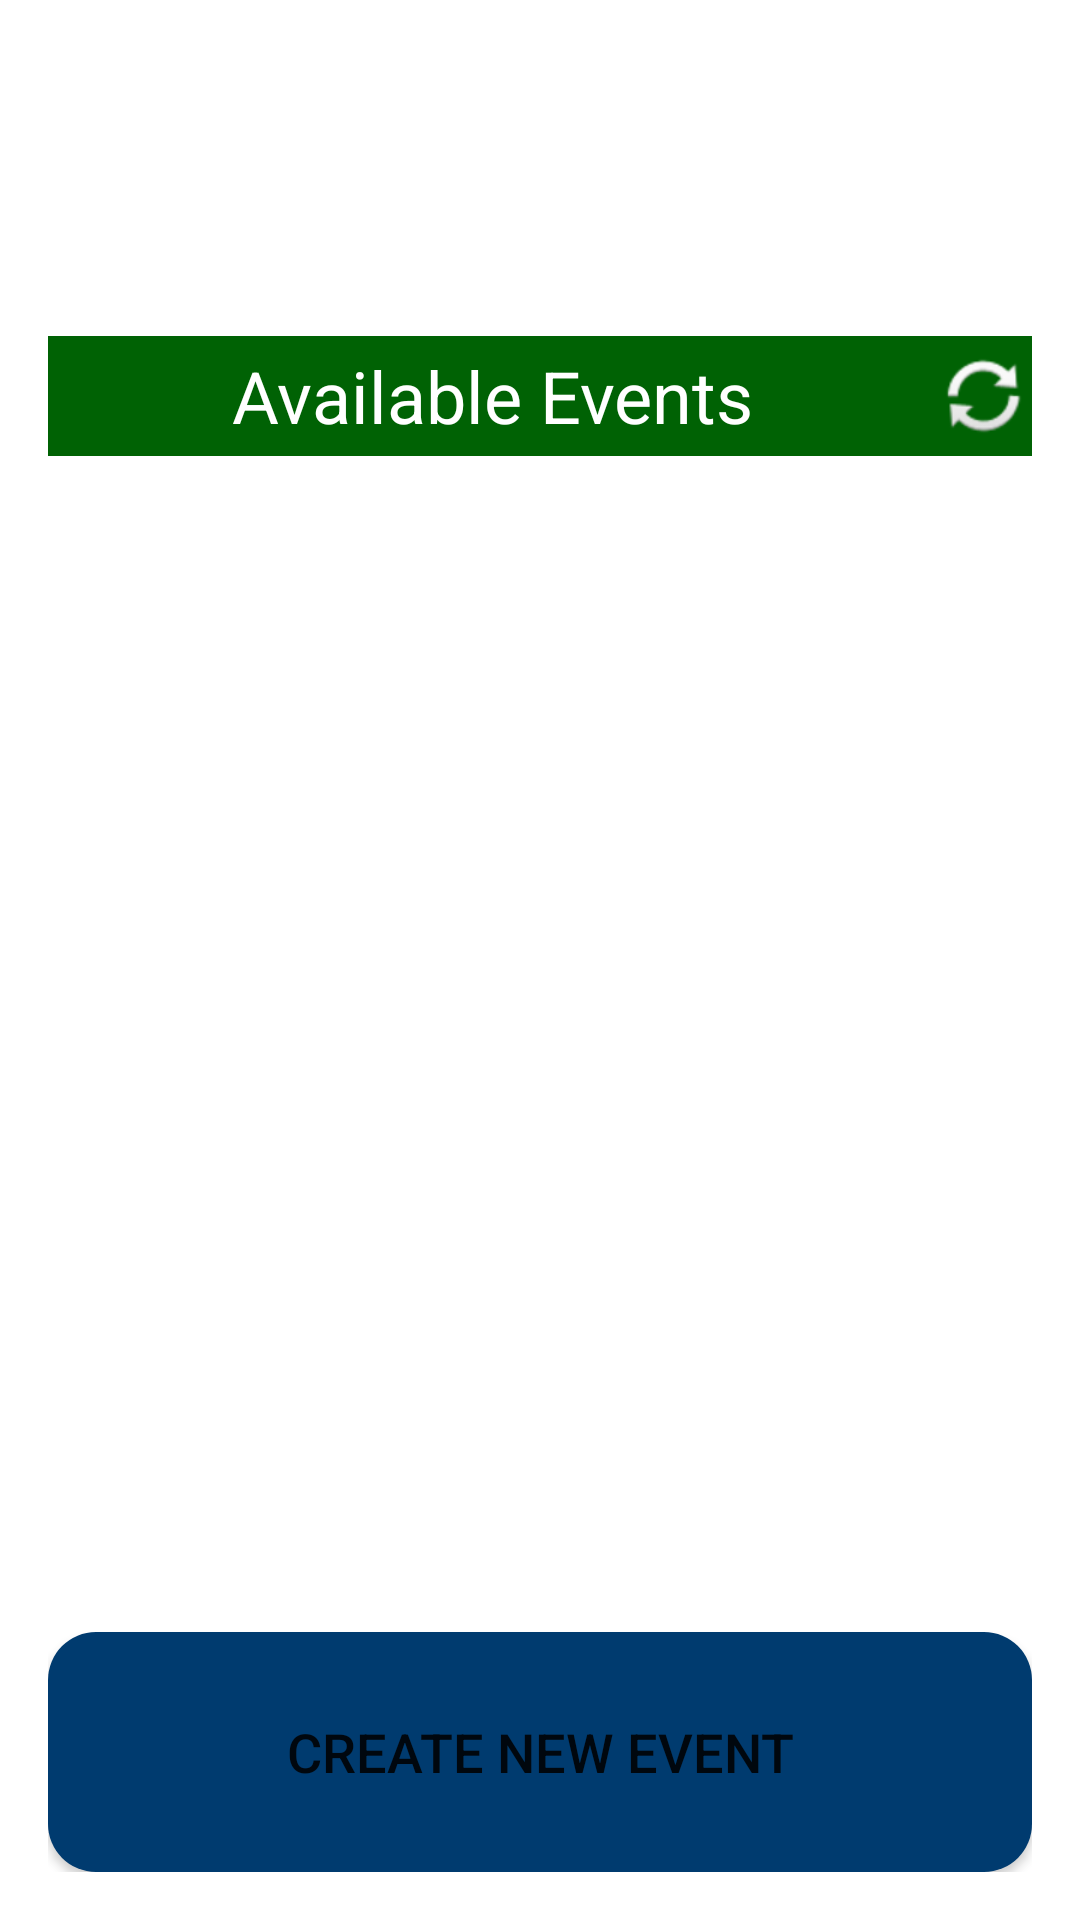

Where to tap for icons on this 1080w x 1920h app screen, as (x=x, y=y):
Refresh: (x=984, y=396)
